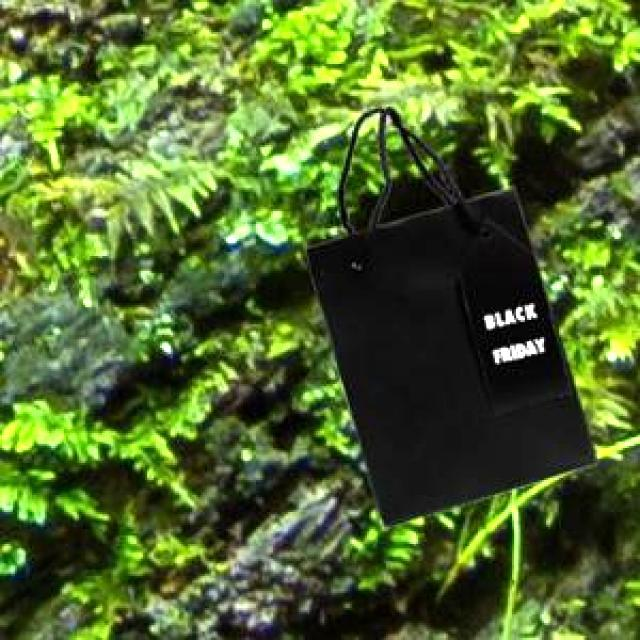Paper_Bag: (302, 103, 594, 524)
